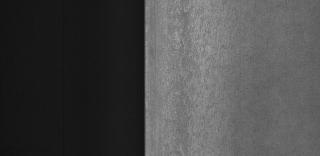silk spot: (169, 12, 221, 146)
